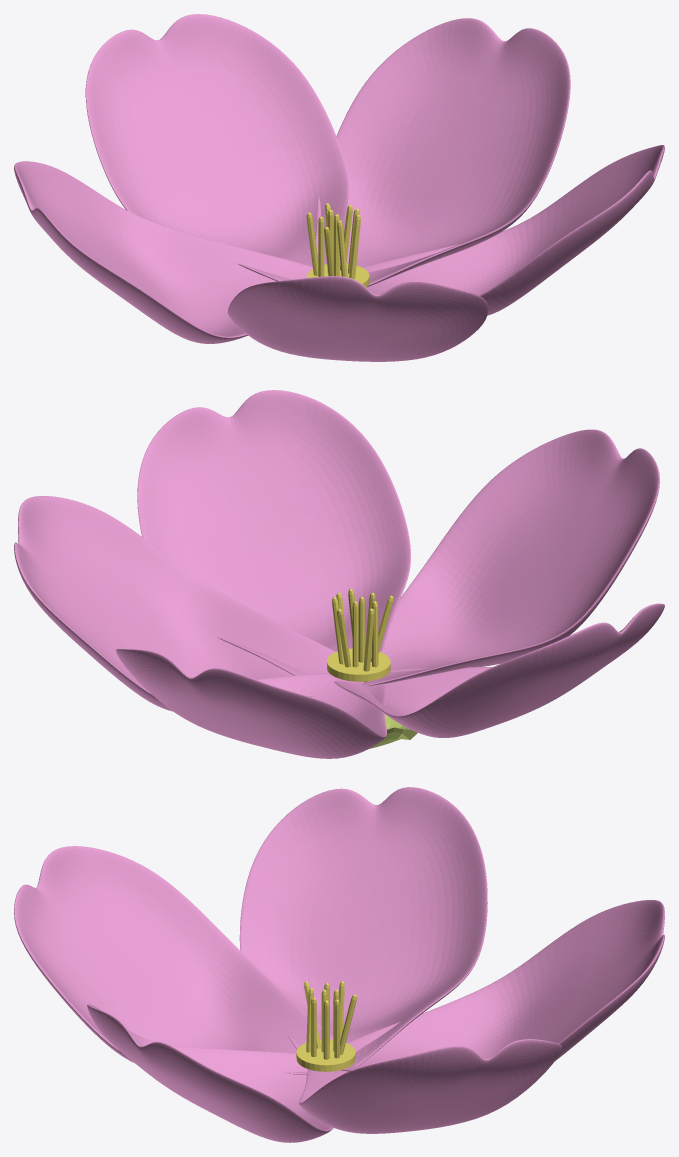
The model's file is hana.glb.
The picture shows the model from 3 angles, top to bottom: view 1: azimuth 30°, elevation 25°; view 2: azimuth 150°, elevation 25°; view 3: azimuth 270°, elevation 25°; orthographic projection. The views are drawn at different scales.
Parts seen in each view (by area): view 1: 立方体, 立方体.001, 立方体.004, 立方体.003, 立方体.002; view 2: 立方体.002, 立方体.003, 立方体.001, 立方体, 立方体.004, 円, 平面.010; view 3: 立方体.004, 立方体.003, 立方体, 立方体.001, 立方体.002, 円.
Boxes of the visible parts, <box> form: 立方体: <box>85,14,349,281</box>; 立方体.001: <box>315,18,570,287</box>; 立方体.004: <box>14,161,312,343</box>; 立方体.003: <box>227,276,488,361</box>; 立方体.002: <box>362,145,664,315</box>; 立方体.002: <box>137,390,410,675</box>; 立方体.003: <box>361,429,659,686</box>; 立方体.001: <box>14,496,335,711</box>; 立方体: <box>116,649,386,758</box>; 立方体.004: <box>334,603,664,737</box>; 円: <box>327,648,390,681</box>; 平面.010: <box>369,714,417,748</box>; 立方体.004: <box>239,787,487,1074</box>; 立方体.003: <box>14,846,333,1075</box>; 立方体: <box>340,900,664,1071</box>; 立方体.001: <box>299,1039,562,1133</box>; 立方体.002: <box>87,1004,333,1142</box>; 円: <box>296,1039,355,1071</box>.
Bounding box in the file's own units: 4.86 × 1.72 × 5.03.
